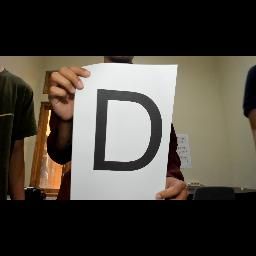d: (88, 85, 164, 177)
